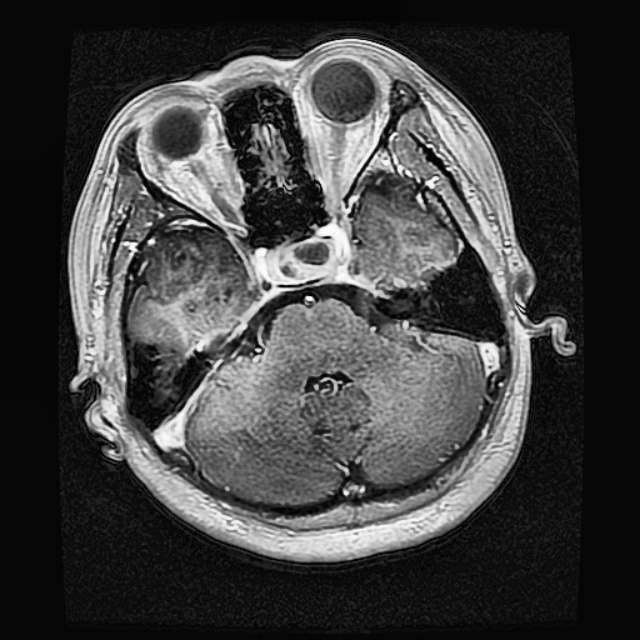Pituitary: (257, 224, 348, 288)
